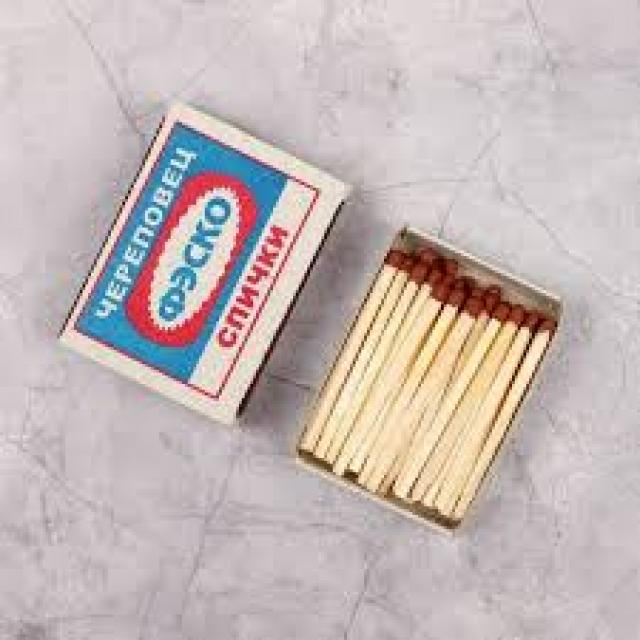match: (52, 100, 356, 428)
